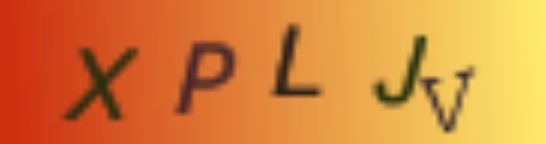J: (369, 31, 429, 108)
L: (269, 18, 329, 100)
P: (167, 36, 236, 116)
V: (420, 67, 477, 132)
X: (62, 42, 143, 125)
